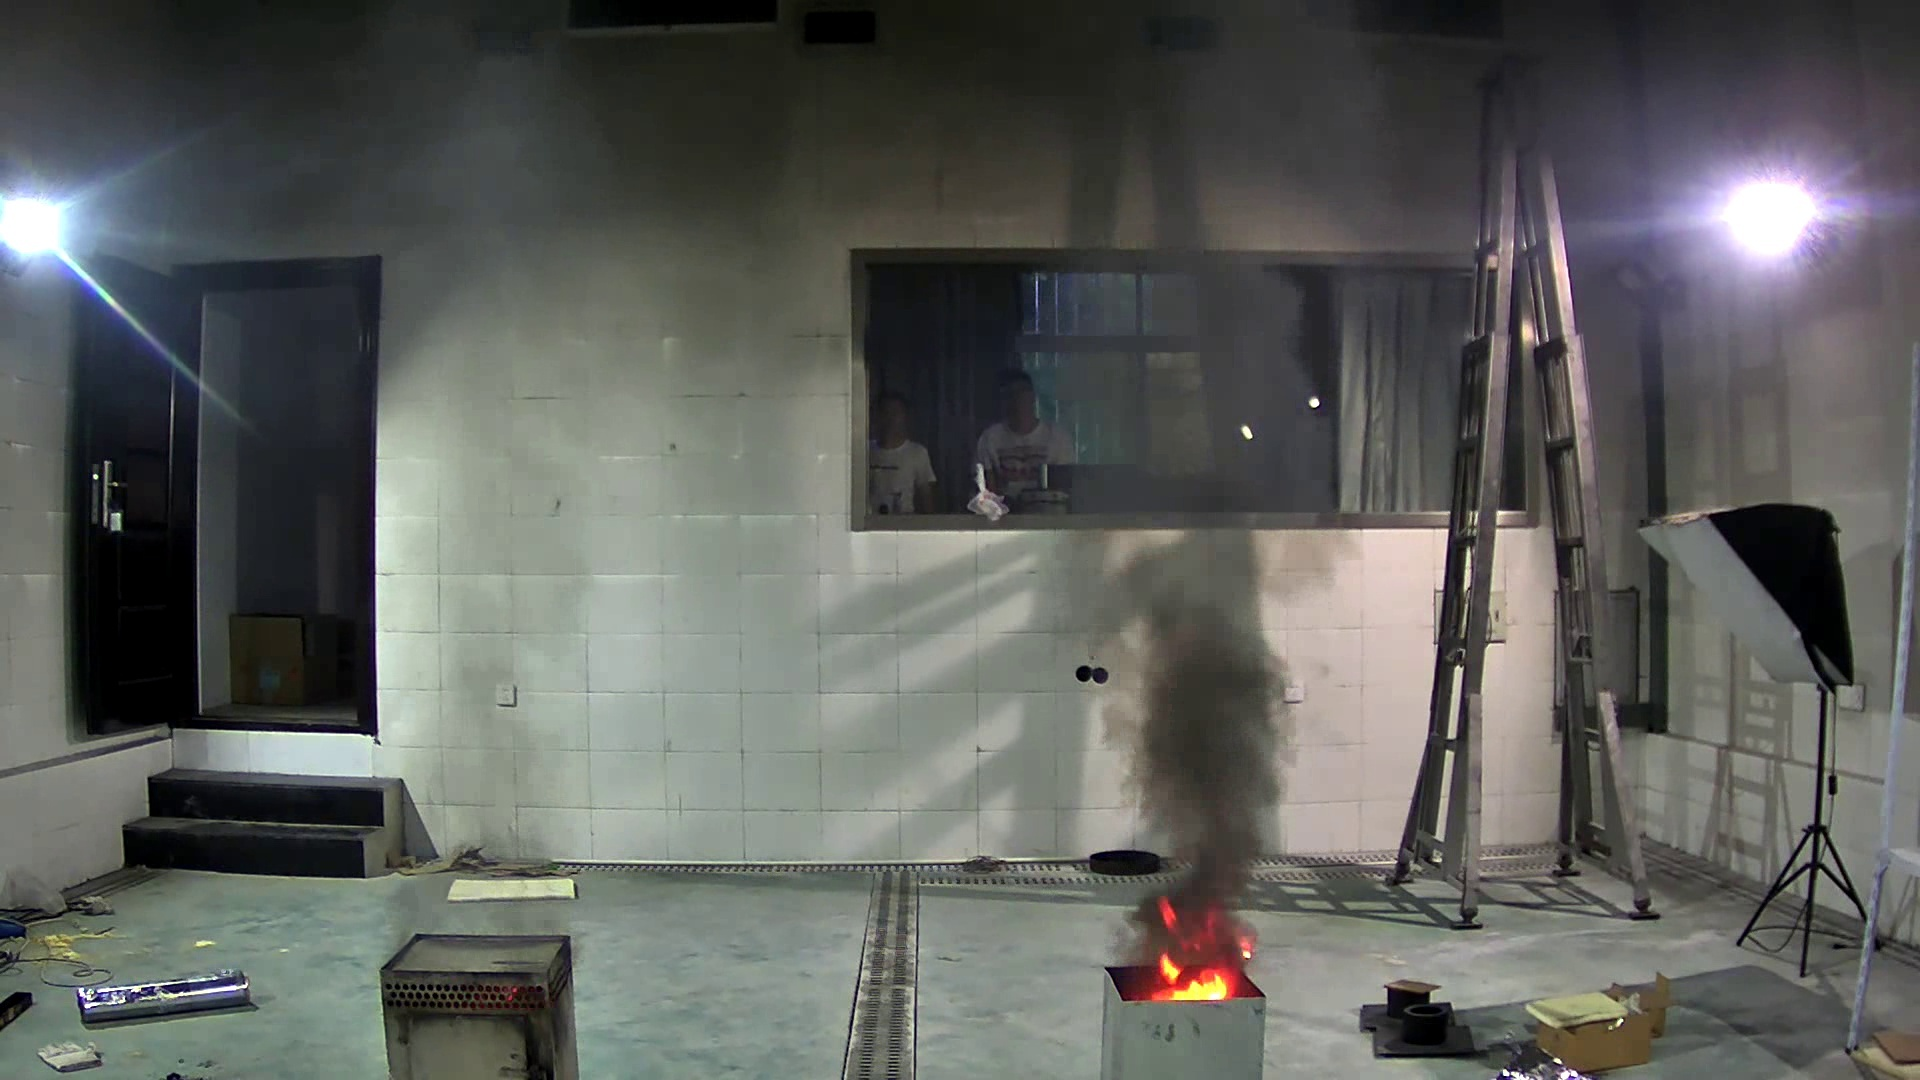smoke: (1095, 553, 1315, 955)
